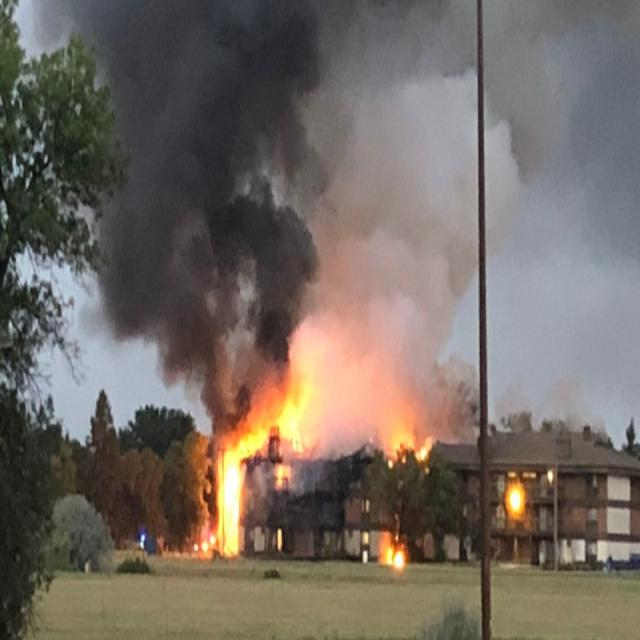smoke: (132, 11, 459, 378)
